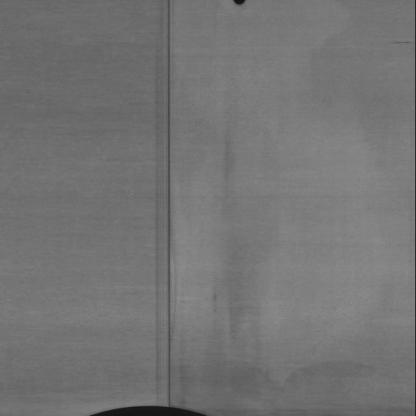crescent_gap: (77, 402, 206, 416)
welding_line: (161, 1, 187, 410)
